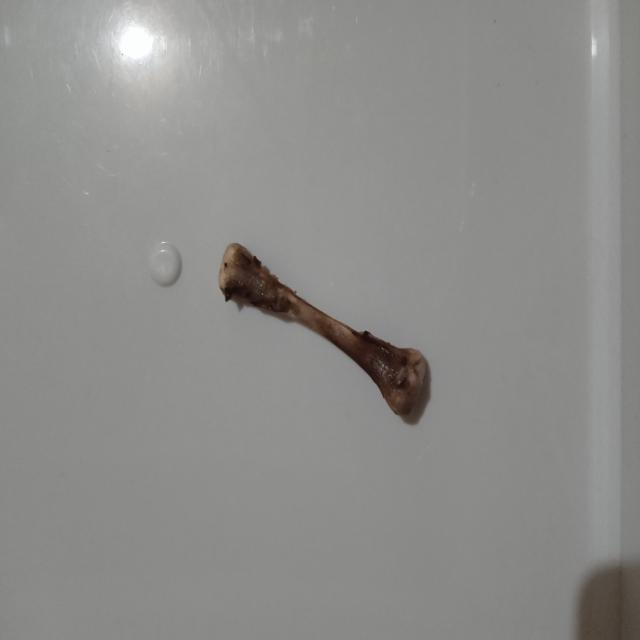bone: (213, 234, 431, 431)
